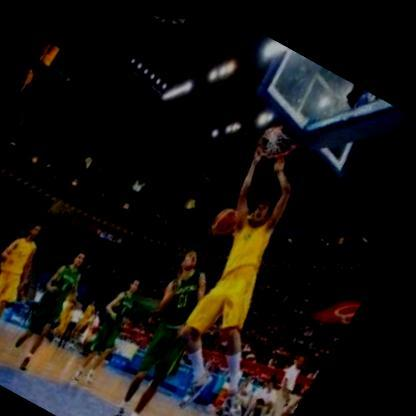basketball: (204, 189, 257, 249)
